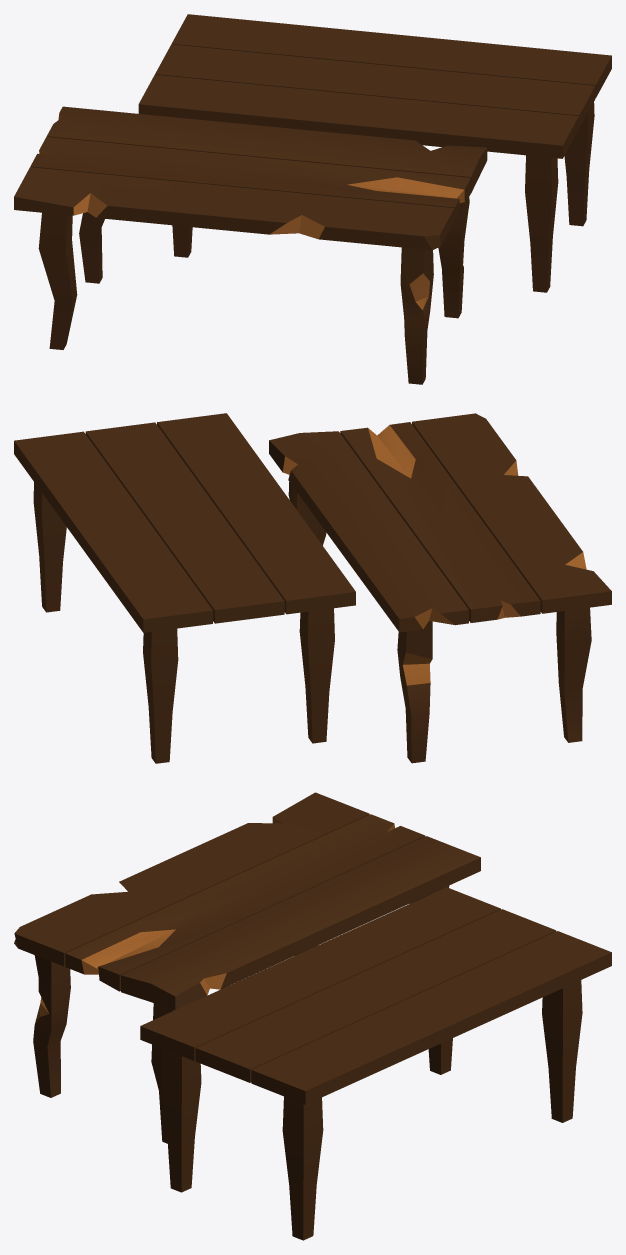
Rendered from Wooden Table.fbx.
3 views of the same model, one above another, from view 1: azimuth 30°, elevation 25°; view 2: azimuth 150°, elevation 25°; view 3: azimuth 270°, elevation 25° (orthographic). The views are drawn at different scales.
Parts seen in each view (by area): view 1: Body Broken, Body, Legs Broken, Legs; view 2: Body, Body Broken, Legs, Legs Broken; view 3: Body, Body Broken, Legs, Legs Broken.
Part boxes in pixels (<box>): Body Broken: <box>14,106,487,250</box>; Body: <box>138,14,611,158</box>; Legs Broken: <box>38,196,469,384</box>; Legs: <box>172,102,594,292</box>; Body: <box>14,413,355,632</box>; Body Broken: <box>269,413,611,632</box>; Legs: <box>33,482,334,763</box>; Legs Broken: <box>288,475,591,763</box>; Body: <box>140,887,611,1104</box>; Body Broken: <box>14,792,480,1009</box>; Legs: <box>161,980,582,1240</box>; Legs Broken: <box>33,886,449,1143</box>.
Size of the model in its own units: 2700 by 702 by 2283.
